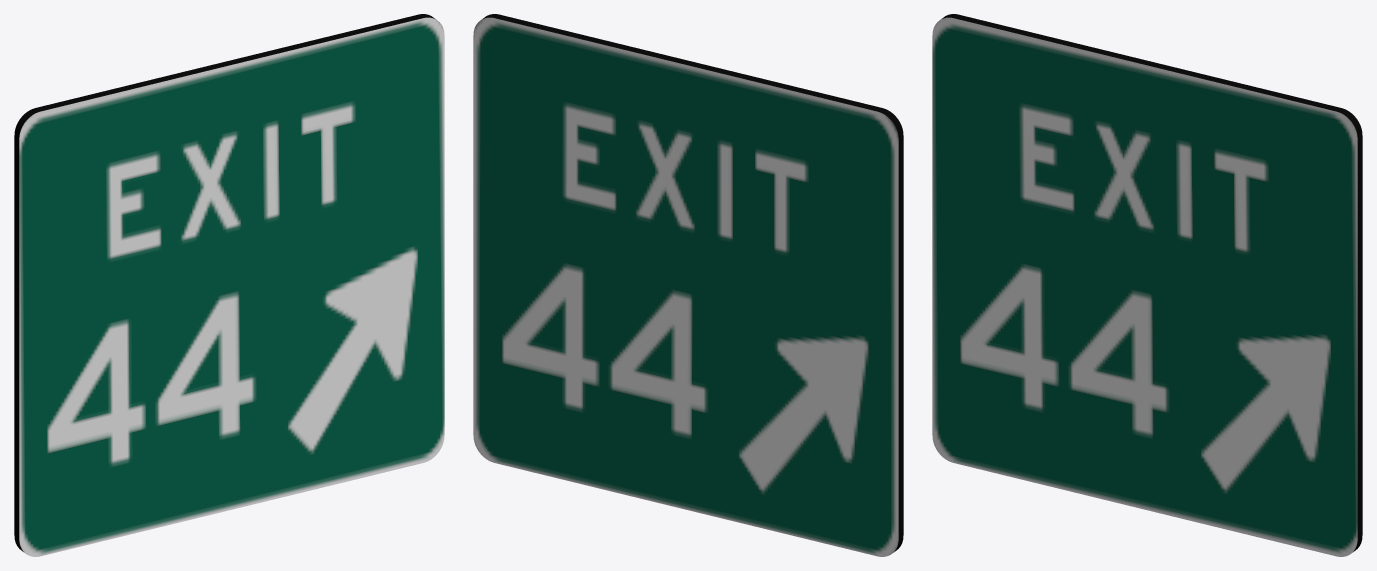
The model's file is square.obj.
3 renders of one model, left to right at view 1: azimuth 30°, elevation 25°; view 2: azimuth 150°, elevation 25°; view 3: azimuth 330°, elevation 25°, orthographic.
Parts seen in each view (by area): view 1: Cube; view 2: Cube; view 3: Cube.
Part boxes in pixels (x1,y1,x2,y2): Cube: [14, 14, 444, 556]; Cube: [473, 14, 903, 556]; Cube: [932, 14, 1362, 556].
Bounding box in the file's own units: 1 × 1 × 0.02.
